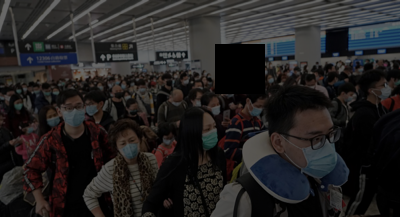with_mask: (286, 124, 338, 178), (62, 102, 85, 128), (117, 136, 141, 159), (202, 121, 219, 150), (377, 81, 393, 101), (249, 103, 266, 117), (47, 112, 61, 127), (86, 102, 99, 117), (209, 102, 222, 116), (163, 135, 175, 146), (114, 89, 124, 100), (345, 93, 355, 104), (195, 95, 203, 108), (129, 107, 140, 116), (172, 99, 183, 108), (15, 101, 23, 111), (43, 89, 52, 97), (165, 79, 174, 87), (227, 91, 236, 99), (183, 78, 190, 86), (27, 126, 34, 134), (53, 89, 60, 96), (125, 95, 132, 102), (141, 86, 147, 93), (269, 77, 275, 84), (35, 88, 41, 94), (264, 69, 270, 75), (23, 87, 29, 93), (17, 89, 22, 94)
